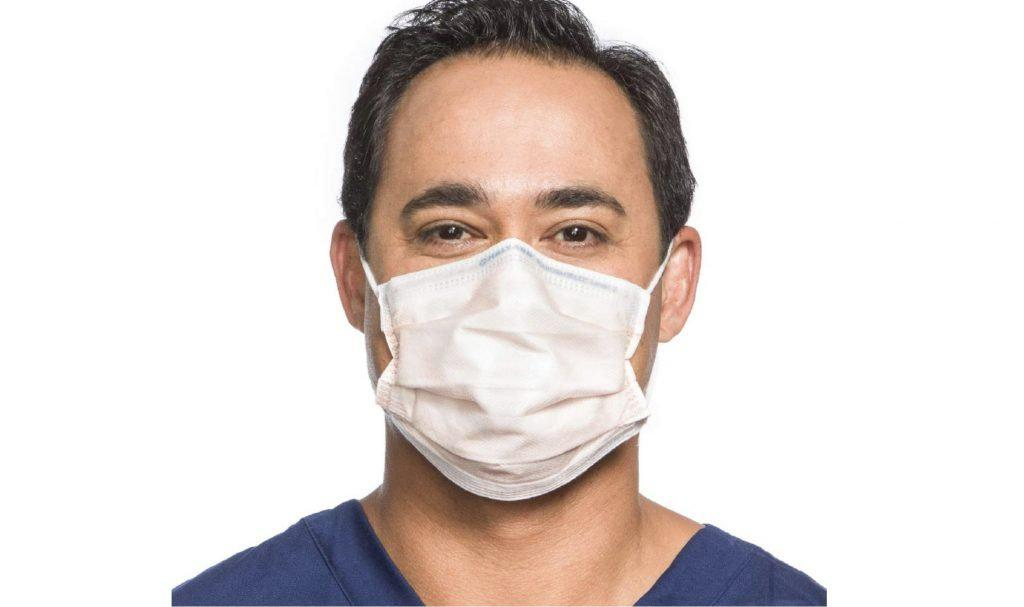mask: (365, 170, 656, 498)
